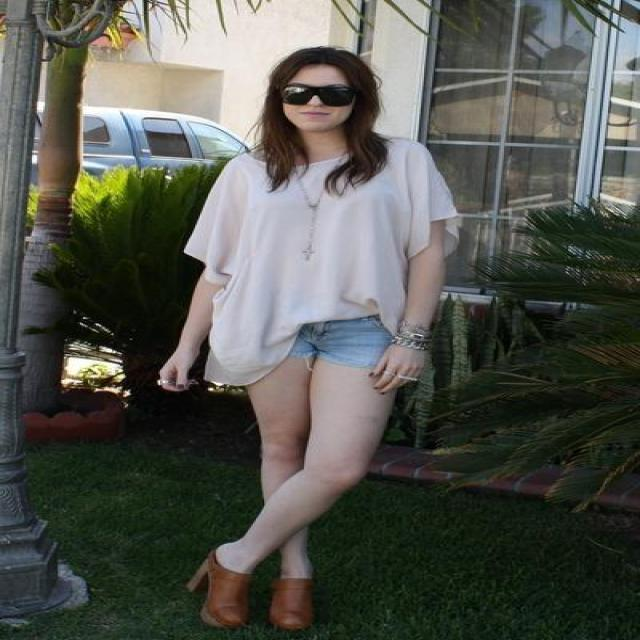shirt: (184, 129, 461, 386)
shoe: (189, 555, 309, 628)
shorts: (259, 313, 395, 366)
sunglass: (288, 85, 342, 106)
